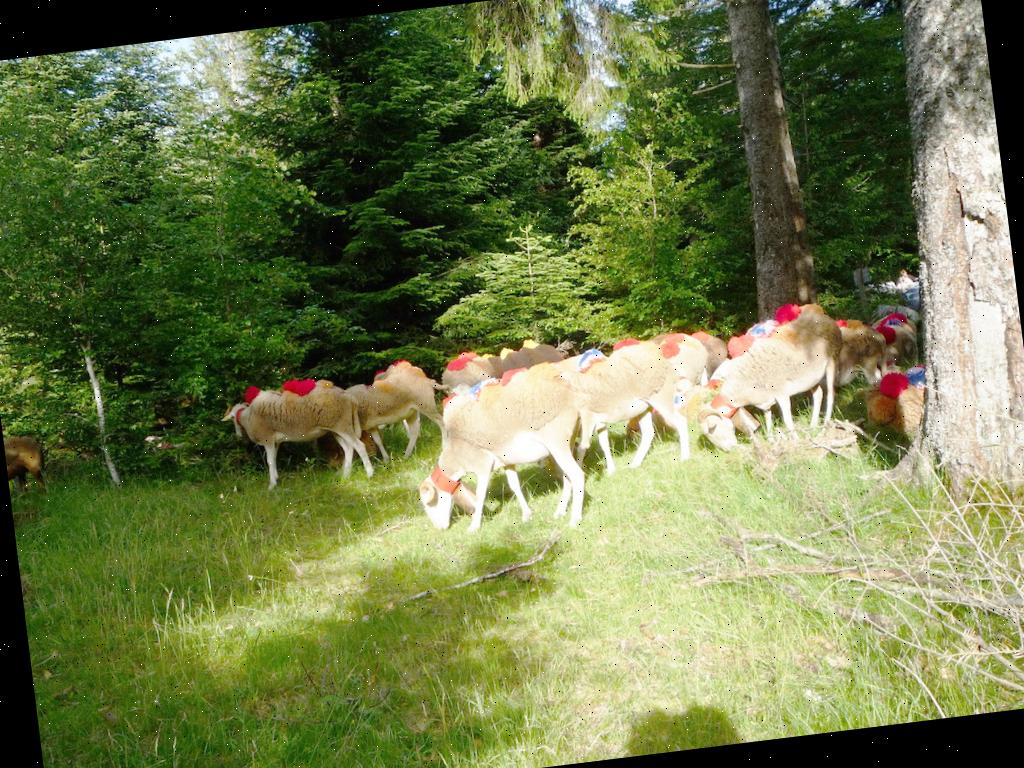Sheep: (393, 367, 615, 555), (652, 312, 872, 470), (534, 325, 722, 468), (218, 360, 398, 492)
